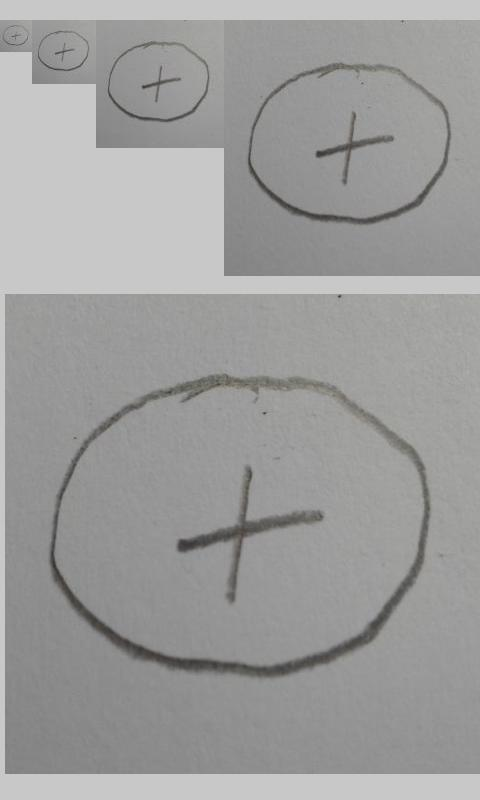button: (47, 373, 433, 678), (247, 63, 451, 225), (107, 41, 210, 123), (37, 30, 90, 72), (2, 25, 29, 46)
